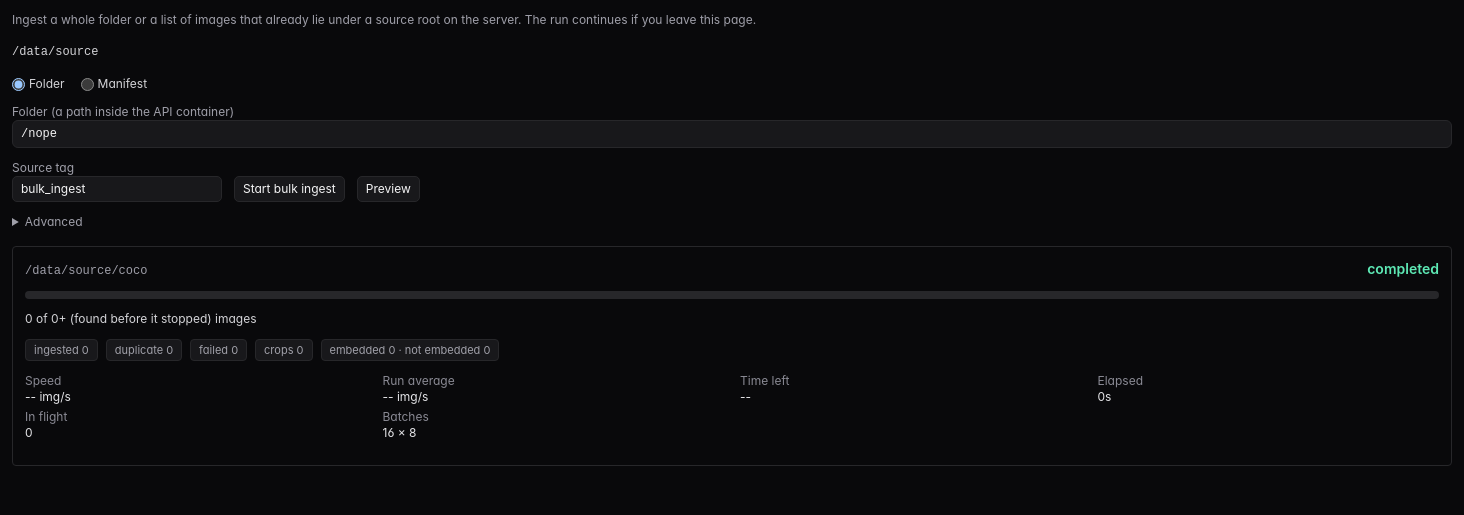
Test: BulkIngestPanel preview › shows the served refusal
The width and height of the screenshot is (1464, 515).
Expected: the field with test id "bulk-path" is shown, [12, 120, 1452, 148]
Step 1. Click the button "Preview" → (388, 189), box [357, 176, 420, 202]
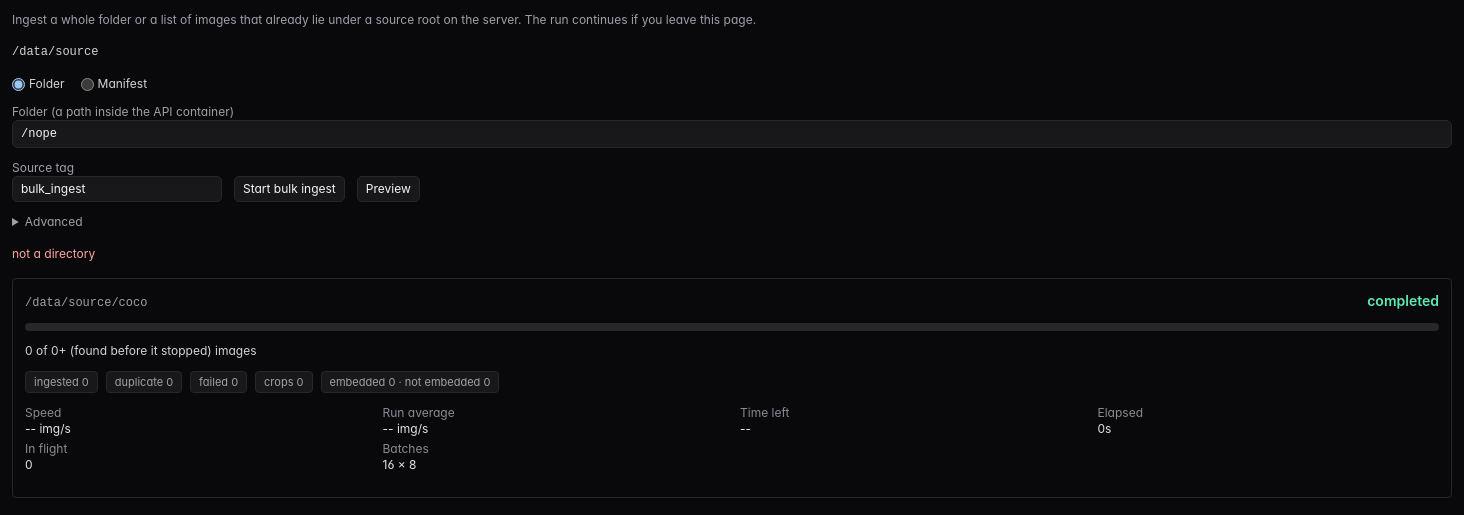
Result: the text "not a directory" is shown at [12, 246, 95, 261]
